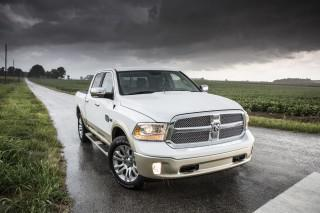ram: (212, 121, 223, 134)
